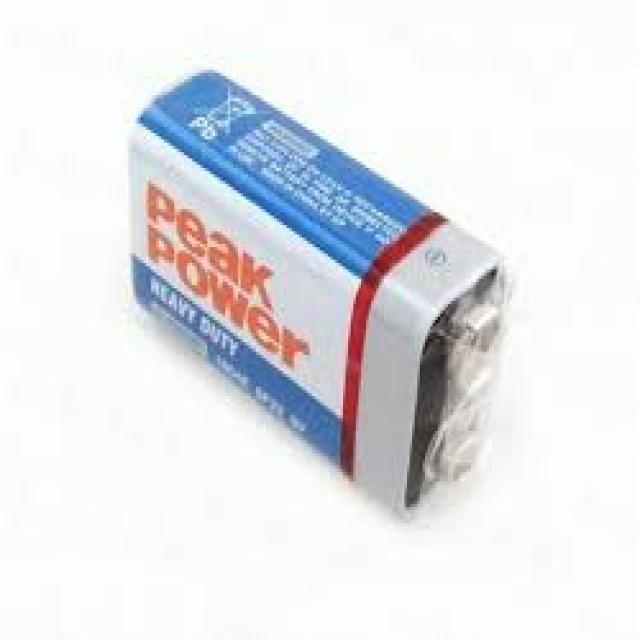Battery: (125, 70, 512, 516)
